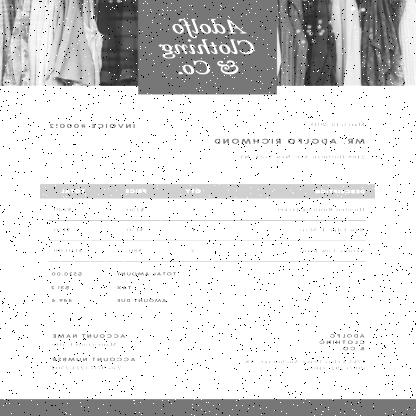Paragraph: (153, 14, 264, 80), (209, 119, 371, 164), (242, 330, 370, 375), (45, 266, 181, 307), (46, 354, 140, 376), (48, 330, 130, 350), (46, 118, 140, 134)
Table: (40, 184, 376, 262)
